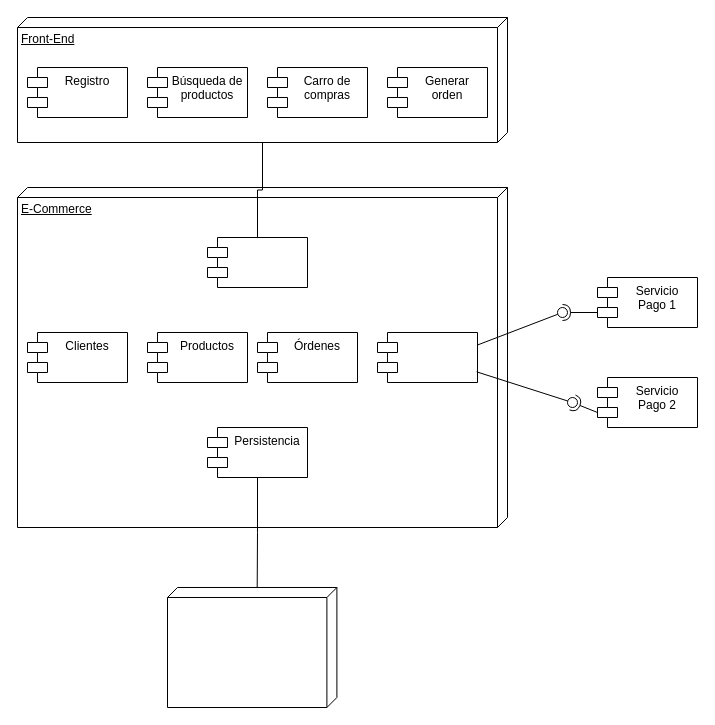
Image size: 715x725. Some labels were removed from this diagram. Here are the shapes that lost their labels. From the top down, the centre of each, then its label:
(x=257, y=262): GUI
(x=427, y=357): Pagos
(x=251, y=647): SQL Server
